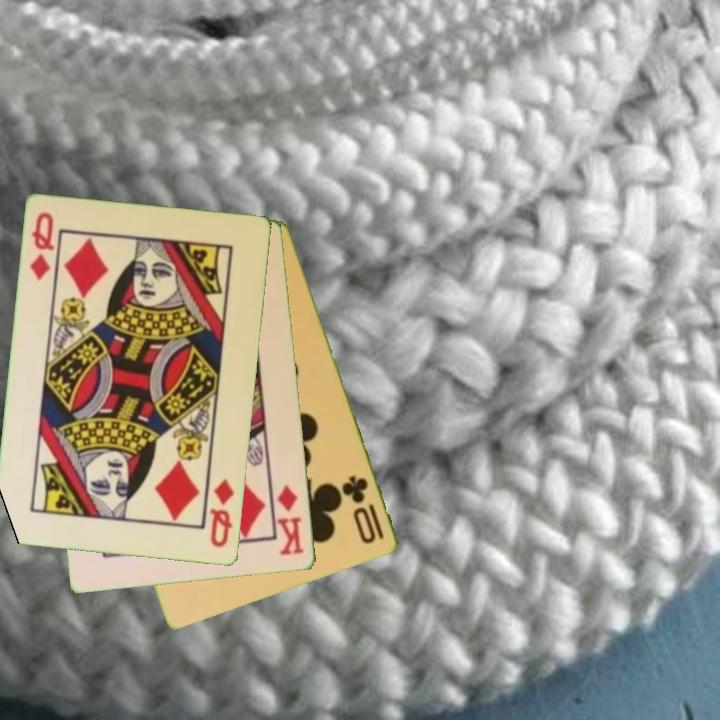10c: (340, 472, 388, 548)
Kd: (273, 481, 307, 559)
Qd: (27, 209, 58, 284), (207, 475, 237, 551)
